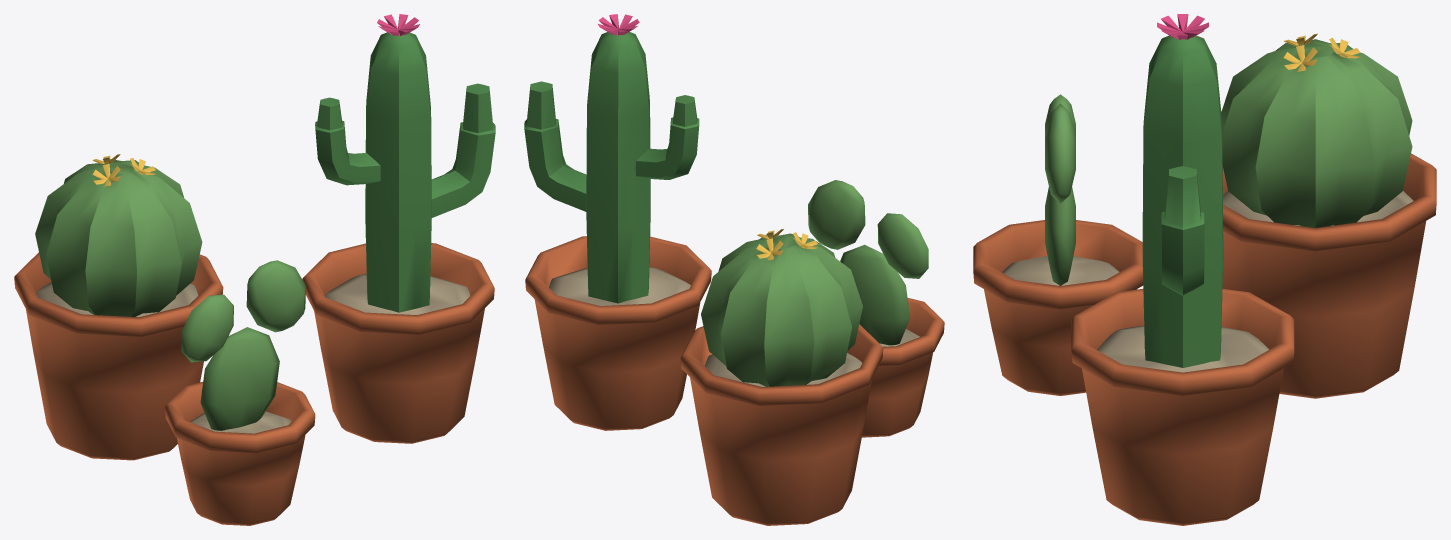
File: cacti.glb
3 renders of one model, left to right at view 1: azimuth 30°, elevation 25°; view 2: azimuth 150°, elevation 25°; view 3: azimuth 270°, elevation 25°, orthographic. The views are drawn at different scales.
Parts seen in each view (by area): view 1: cacti; view 2: cacti; view 3: cacti.
Boxes of the visible parts, <box> form: cacti: <box>14,14,495,525</box>; cacti: <box>524,14,944,525</box>; cacti: <box>973,14,1436,525</box>.
Size of the model in its own units: 0.568 by 0.521 by 0.465.
